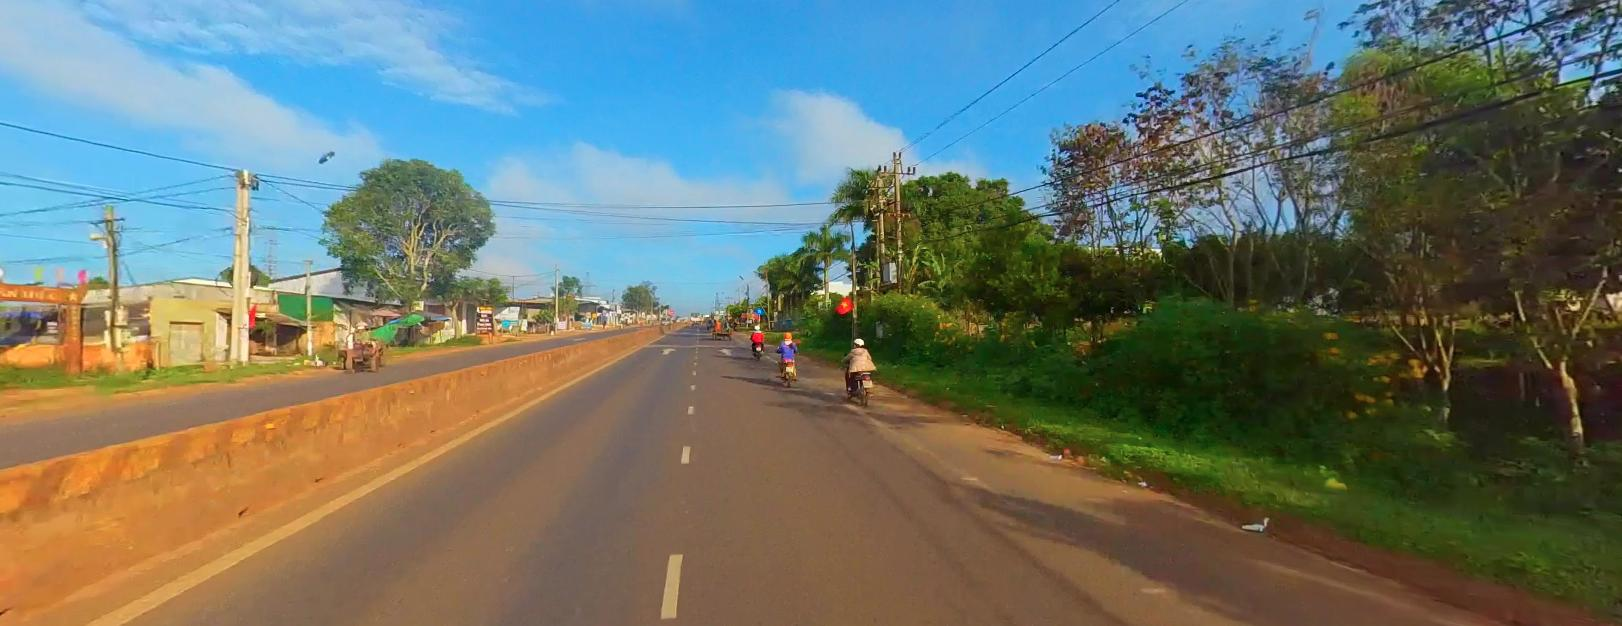Cam nguoc chieu: (668, 308, 674, 312)
